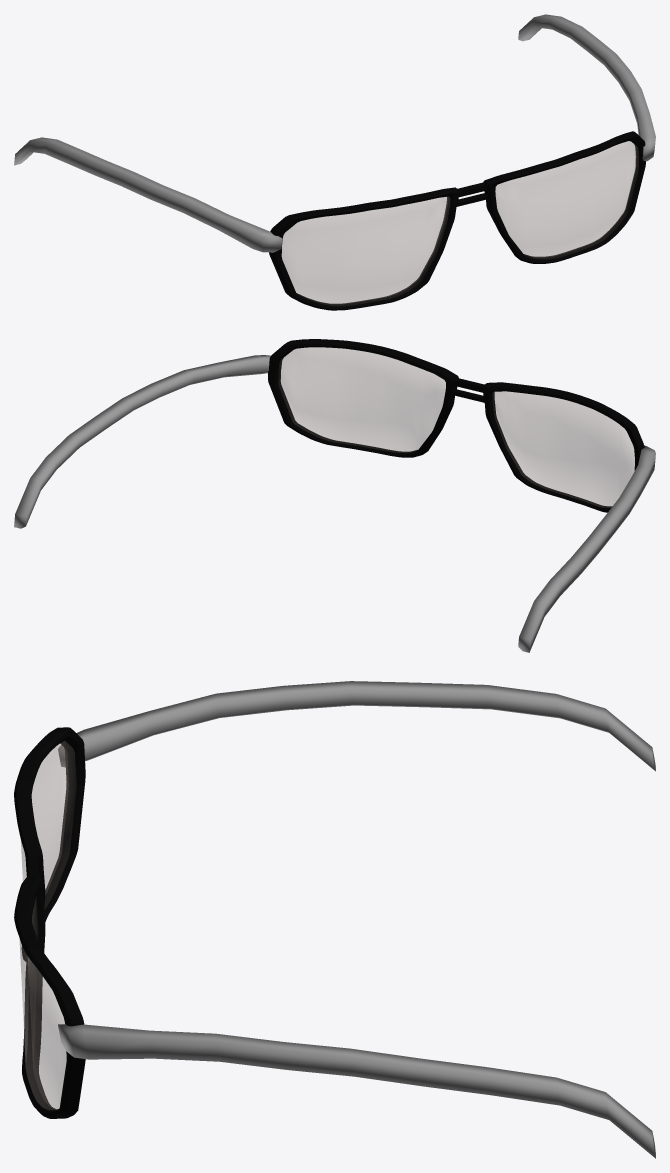
The picture shows the model from 3 angles, top to bottom: view 1: azimuth 30°, elevation 25°; view 2: azimuth 150°, elevation 25°; view 3: azimuth 270°, elevation 25°; orthographic projection. The views are drawn at different scales.
Parts seen in each view (by area): view 1: glassesRectangle; view 2: glassesRectangle; view 3: glassesRectangle.
Part boxes in pixels (box(x1,y1,x2,y2)): glassesRectangle: box(14, 14, 655, 310); glassesRectangle: box(14, 339, 655, 652); glassesRectangle: box(14, 681, 655, 1158).
Bounding box in the file's own units: 0.4451 × 0.0851 × 0.3077.
Materials: 3 (2 with a texture image).
